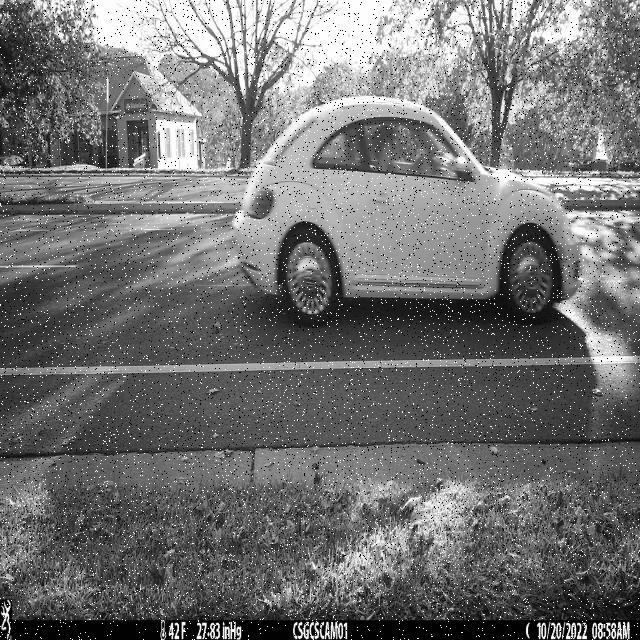Hatchback: (232, 96, 582, 329)
